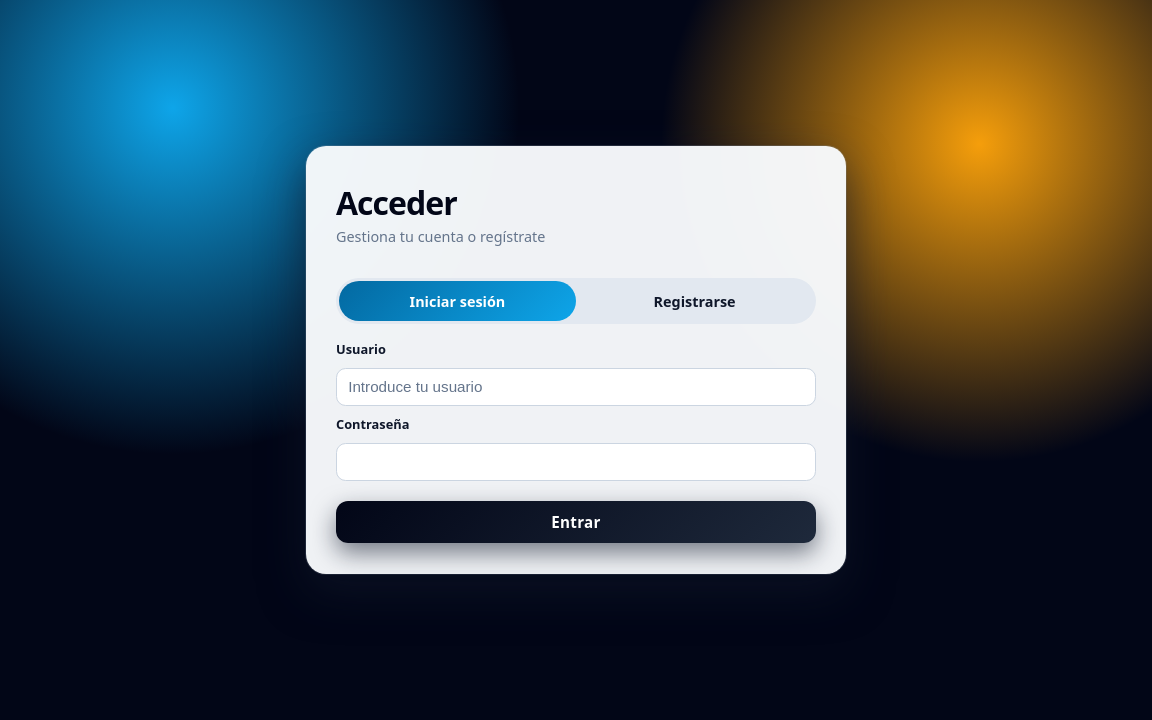
Scenario: AuthPage › muestra validación de registro si contraseñas no coinciden
// El tab se llama "Registrarse"
Click the tab "Registrarse" at (695, 301), box [576,281,813,321]
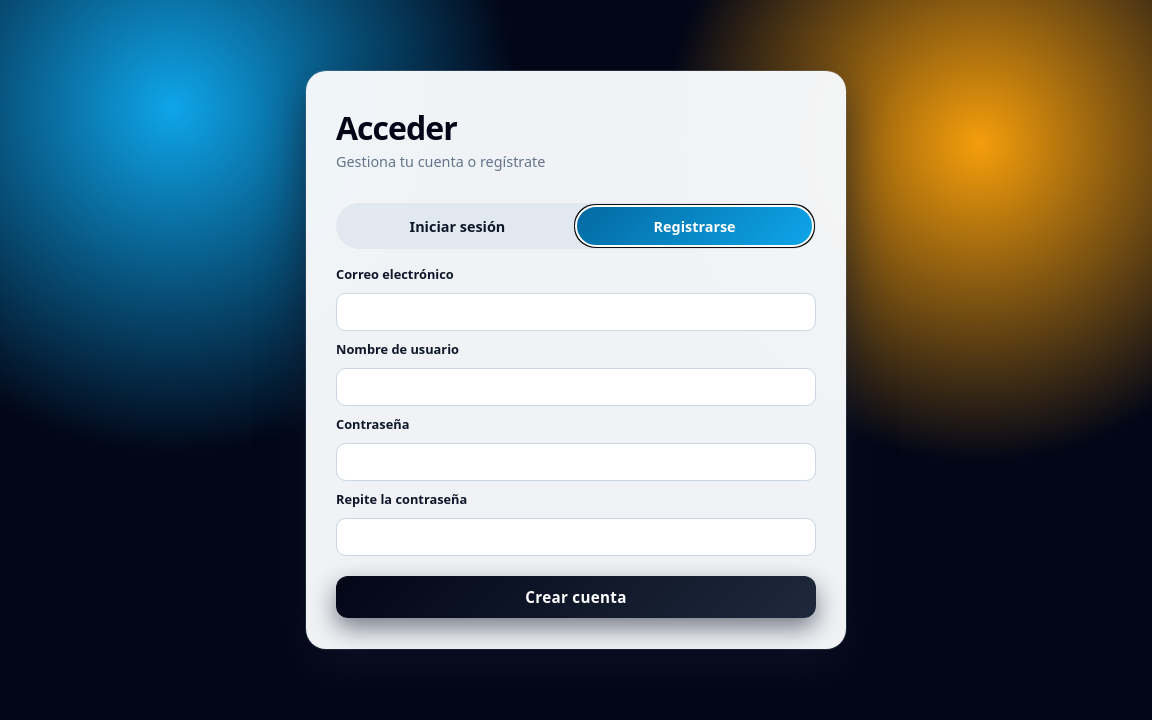
Type "ana@example.com" into the field labelled "Correo electrónico" at (576, 312), box [336,293,816,331]
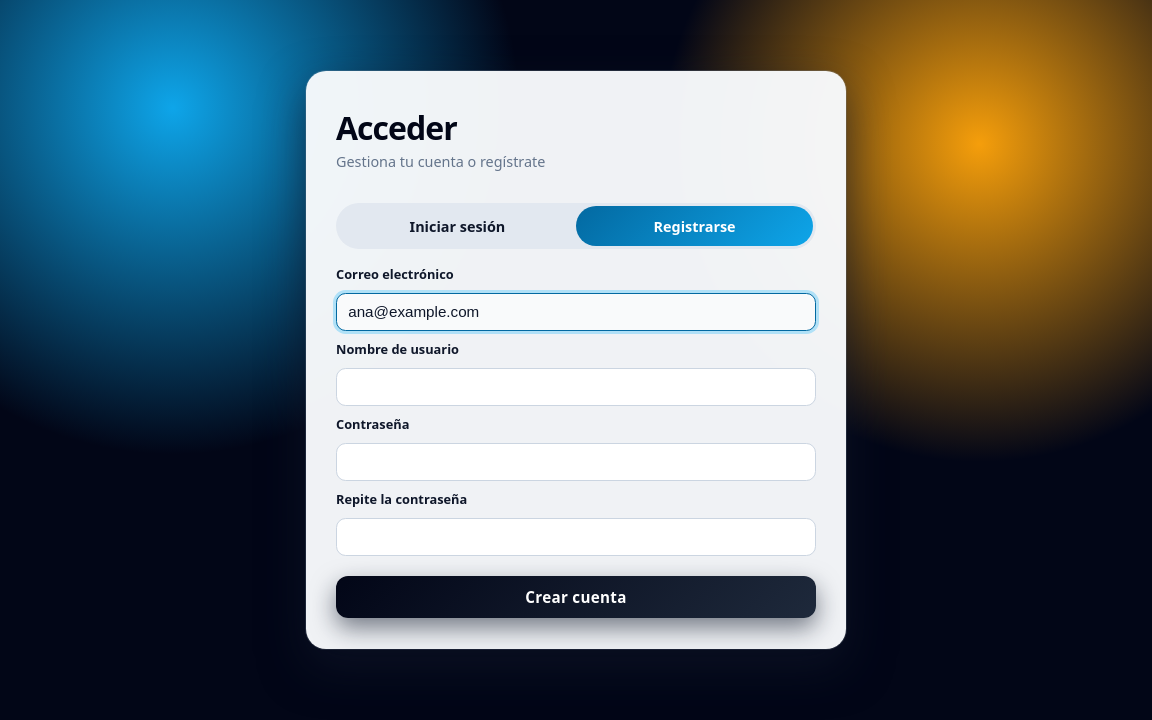
Type "ana" into the field labelled "Nombre de usuario" at (576, 387), box [336,368,816,406]
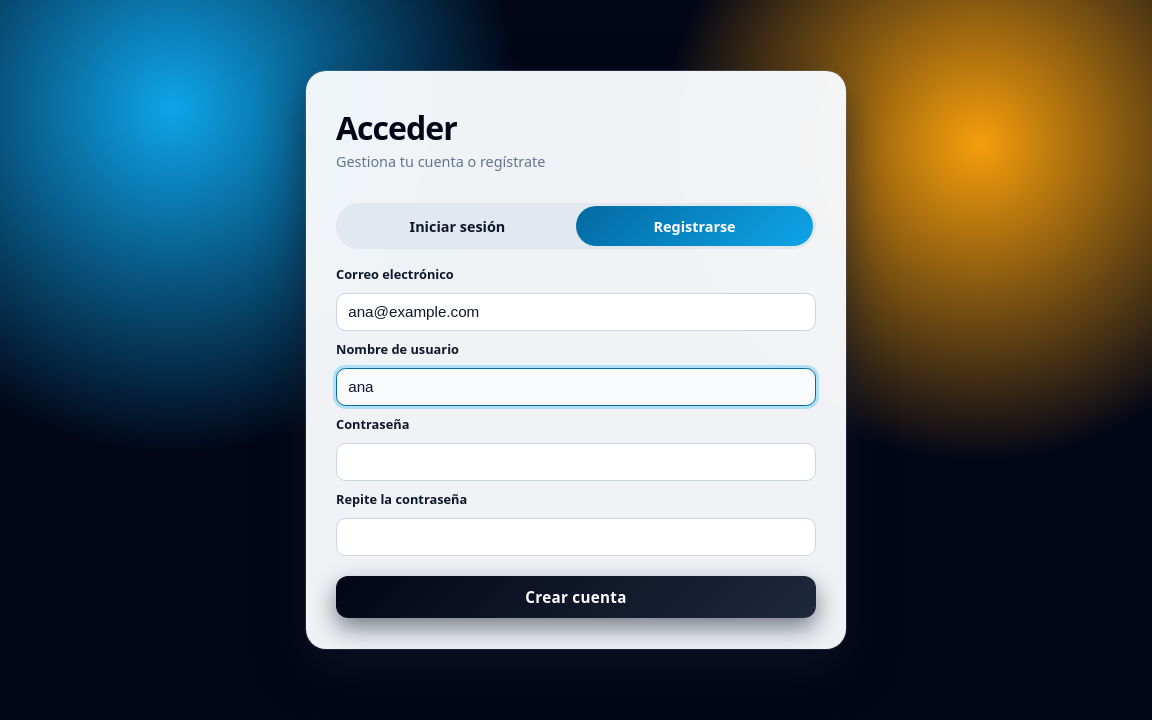
Type "123456" into the password field labelled "Contraseña" at (576, 462), box [336,443,816,481]
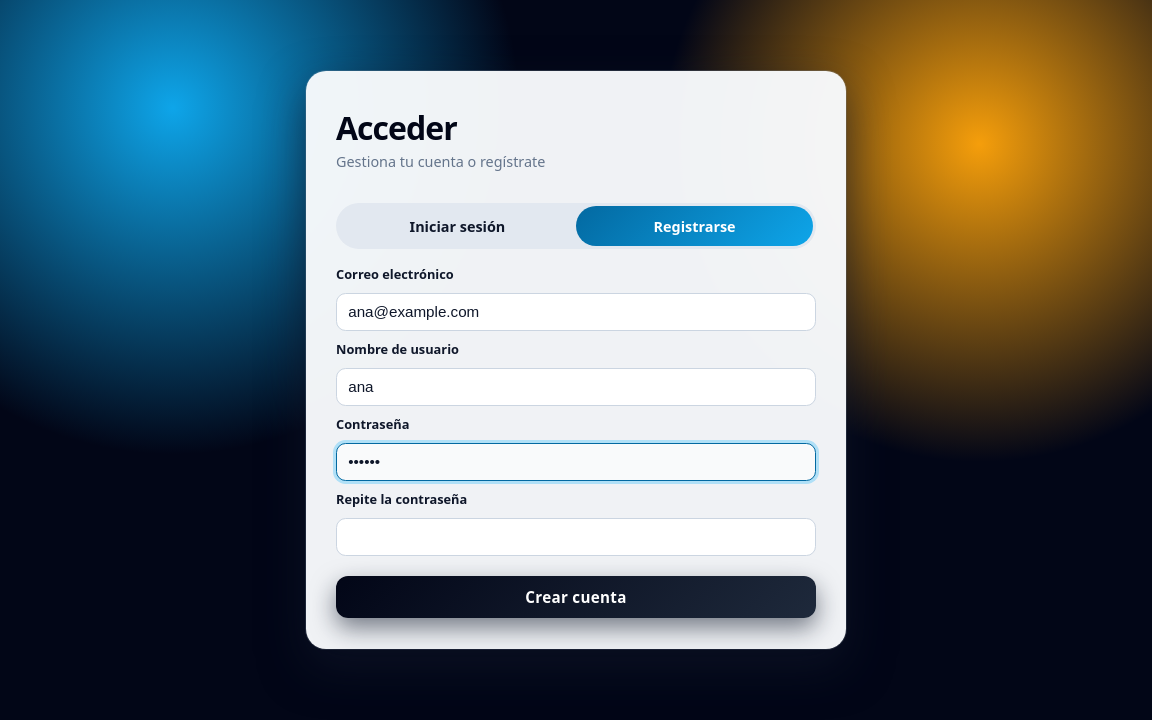
Type "654321" into the password field labelled "Repite la contraseña" at (576, 537), box [336,518,816,556]
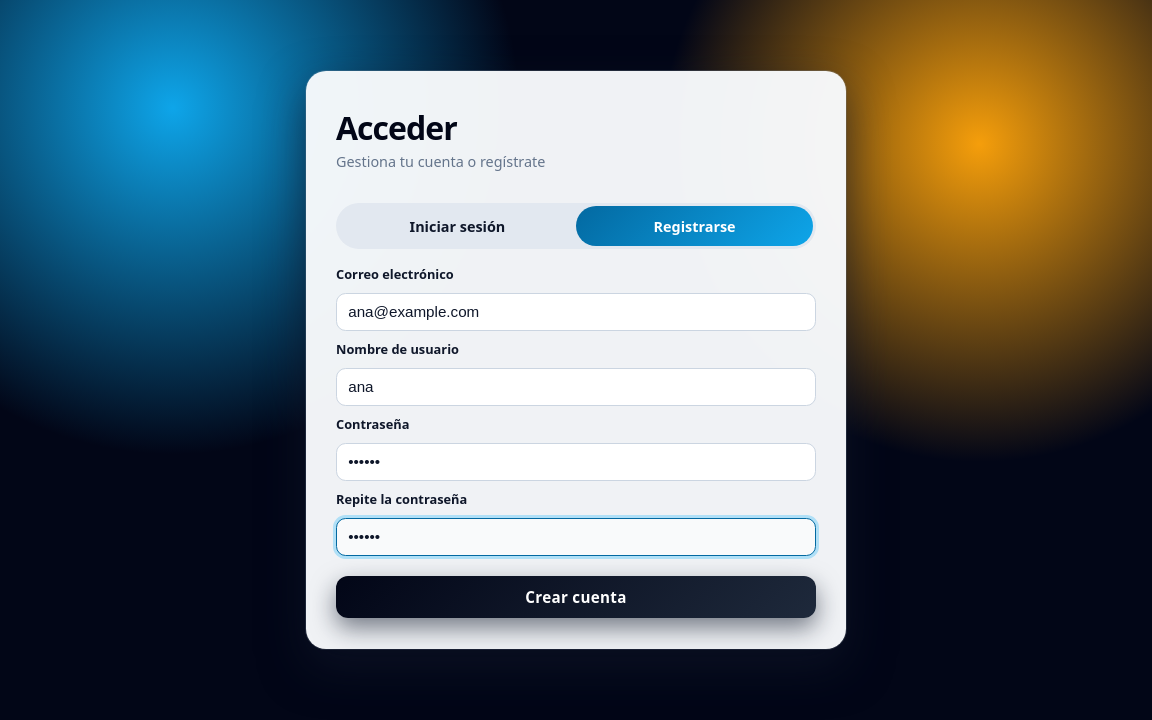
Click the button "Crear cuenta" at (576, 597), box [336,576,816,618]
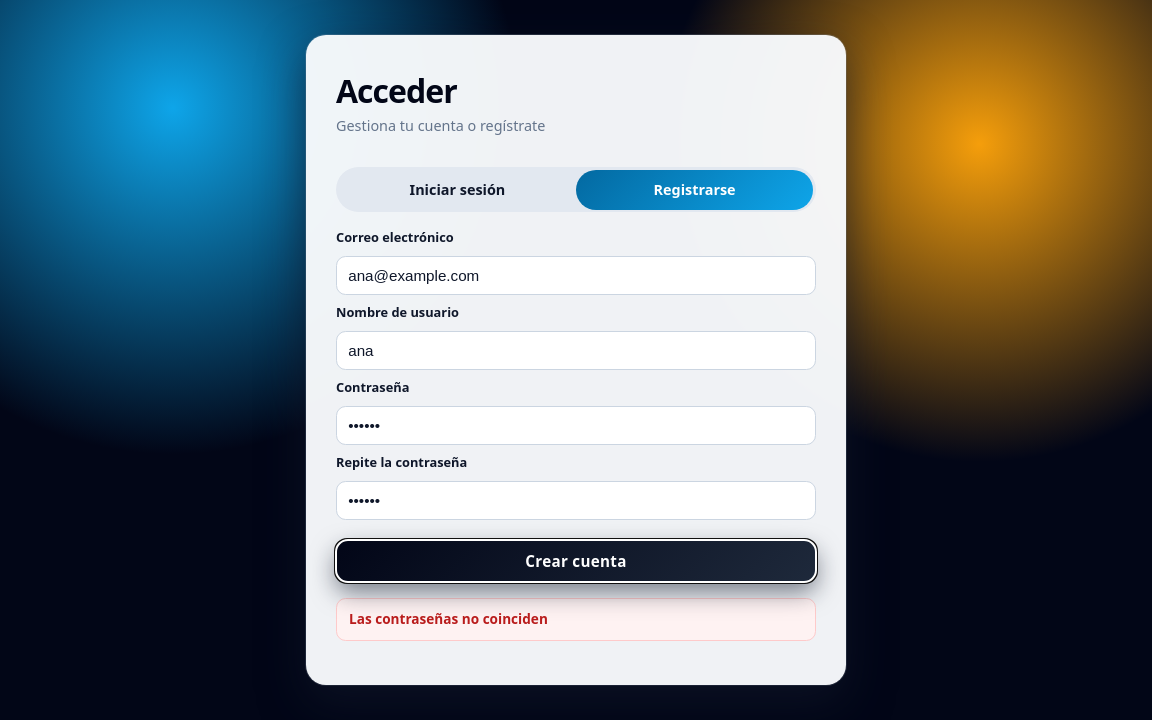
Expected: the text "Las contraseñas no coinciden" is shown, [336,598,816,641]
